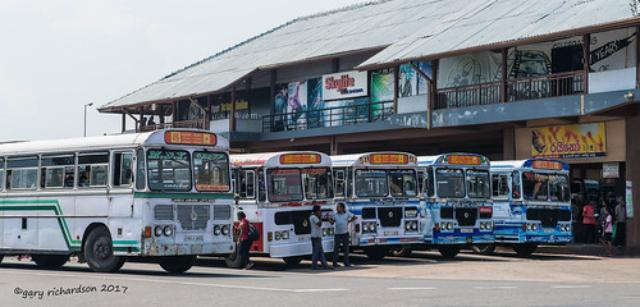bus: (1, 128, 237, 273), (229, 151, 335, 265), (332, 151, 425, 260), (415, 152, 493, 259), (493, 156, 571, 256)
